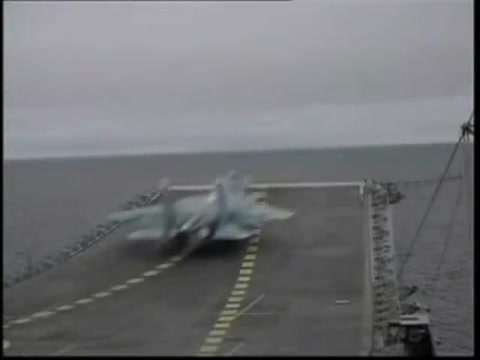aeroplane: (112, 171, 295, 258)
